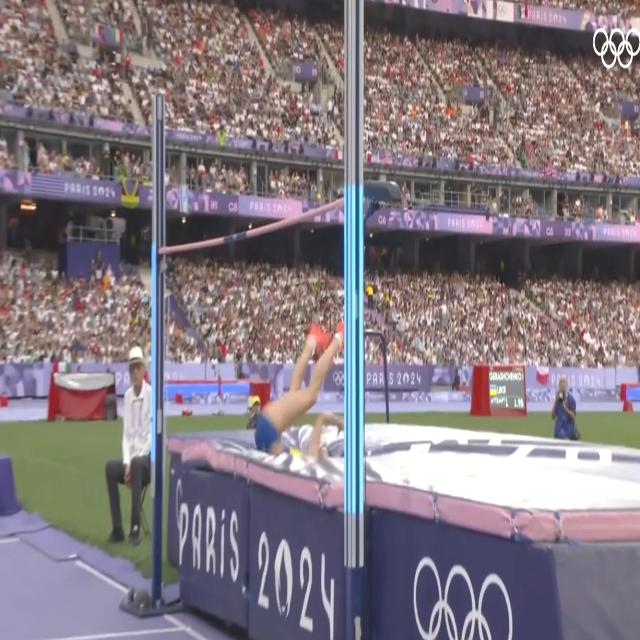land: (255, 318, 337, 456)
